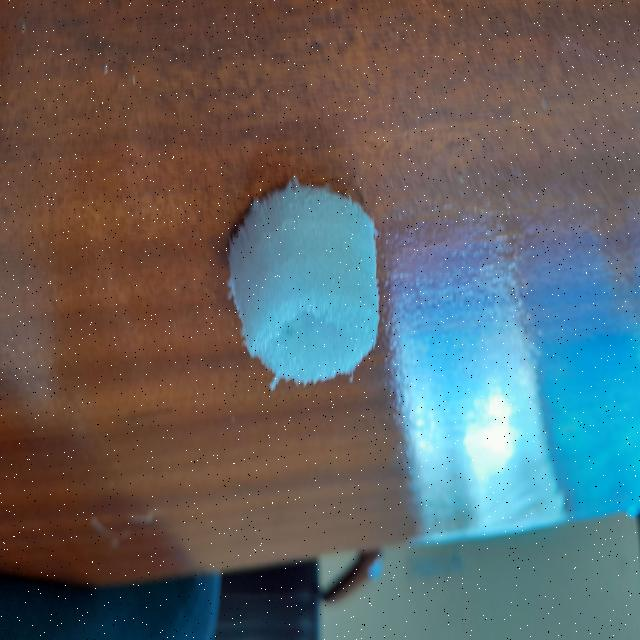wheel: (228, 183, 380, 393)
